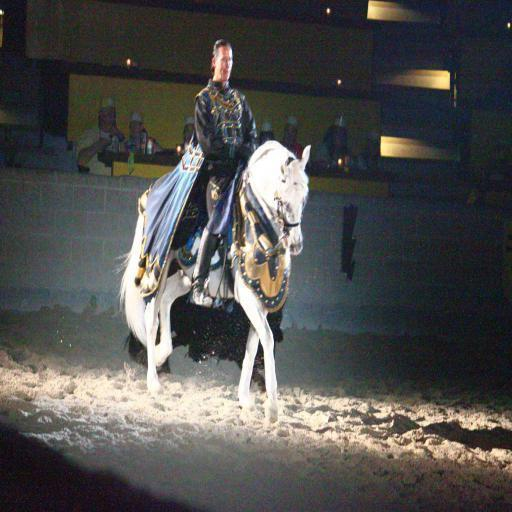horse: (116, 135, 312, 422)
